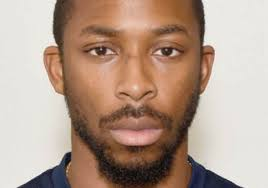black_male: (52, 1, 203, 167)
